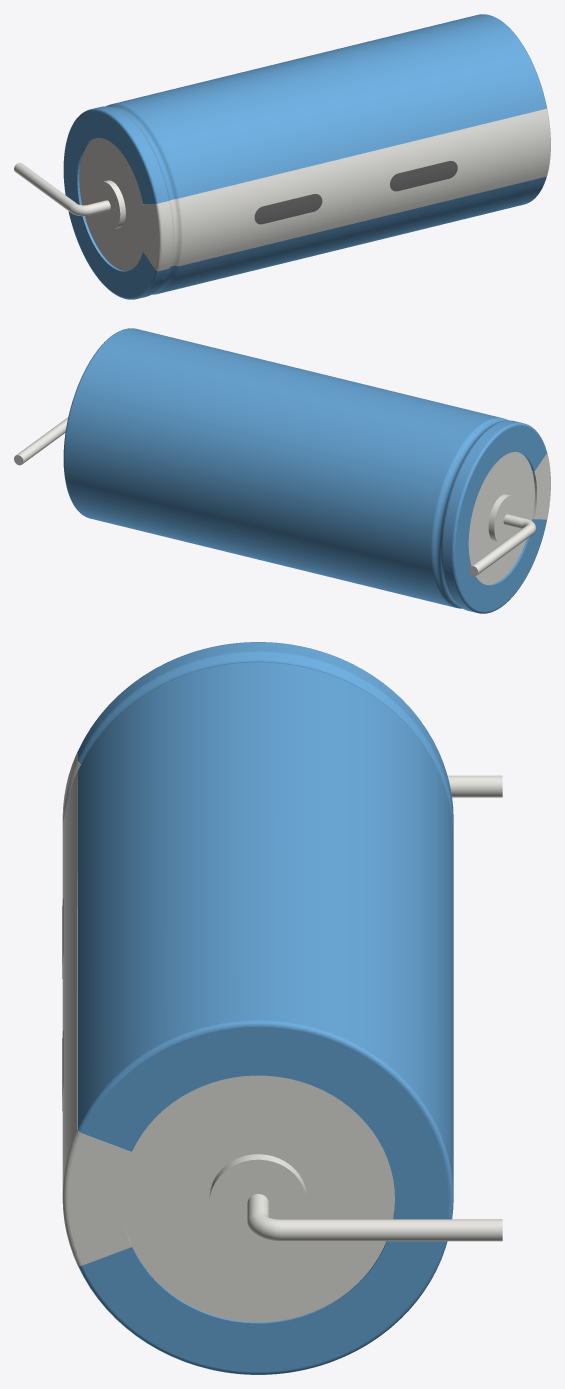
The model's file is CP_Axial_L37.0mm_D16.0mm_P43.00mm_Horizontal.glb.
3 views of the same model, one above another, from view 1: azimuth 30°, elevation 25°; view 2: azimuth 150°, elevation 25°; view 3: azimuth 270°, elevation 25° (orthographic). The views are drawn at different scales.
Visible parts, largest first — view 1: Shape_IndexedFaceSet.009, Shape_IndexedFaceSet.049, Shape_IndexedFaceSet.006, Shape_IndexedFaceSet.064, Shape_IndexedFaceSet, Shape_IndexedFaceSet.028, Shape_IndexedFaceSet.018, Shape_IndexedFaceSet.005, Shape_IndexedFaceSet.003, Shape_IndexedFaceSet.041, Shape_IndexedFaceSet.051, Shape_IndexedFaceSet.062 (+4 smaller); view 2: Shape_IndexedFaceSet.009, Shape_IndexedFaceSet.006, Shape_IndexedFaceSet.064, Shape_IndexedFaceSet, Shape_IndexedFaceSet.005, Shape_IndexedFaceSet.003, Shape_IndexedFaceSet.041, Shape_IndexedFaceSet.051, Shape_IndexedFaceSet.062, Shape_IndexedFaceSet.007, Shape_IndexedFaceSet.055, Shape_IndexedFaceSet.002 (+1 smaller); view 3: Shape_IndexedFaceSet.009, Shape_IndexedFaceSet.059, Shape_IndexedFaceSet.012, Shape_IndexedFaceSet.046, Shape_IndexedFaceSet.049, Shape_IndexedFaceSet.057, Shape_IndexedFaceSet.011, Shape_IndexedFaceSet.055, Shape_IndexedFaceSet, Shape_IndexedFaceSet.005, Shape_IndexedFaceSet.002, Shape_IndexedFaceSet.051.
Part boxes in pixels (x1,y1,x2,y2): Shape_IndexedFaceSet.009: (113, 14, 545, 293); Shape_IndexedFaceSet.049: (179, 109, 549, 265); Shape_IndexedFaceSet.006: (64, 111, 155, 297); Shape_IndexedFaceSet.064: (79, 138, 145, 270); Shape_IndexedFaceSet: (94, 106, 167, 298); Shape_IndexedFaceSet.028: (390, 161, 457, 191); Shape_IndexedFaceSet.018: (254, 194, 322, 224); Shape_IndexedFaceSet.005: (107, 105, 176, 293); Shape_IndexedFaceSet.003: (63, 108, 158, 299); Shape_IndexedFaceSet.041: (143, 204, 158, 269); Shape_IndexedFaceSet.051: (14, 162, 76, 211); Shape_IndexedFaceSet.062: (95, 181, 120, 229); Shape_IndexedFaceSet.009: (64, 328, 500, 607); Shape_IndexedFaceSet.006: (455, 425, 546, 611); Shape_IndexedFaceSet.064: (468, 452, 534, 584); Shape_IndexedFaceSet: (442, 420, 521, 612); Shape_IndexedFaceSet.005: (434, 419, 506, 607); Shape_IndexedFaceSet.003: (452, 422, 547, 613); Shape_IndexedFaceSet.041: (534, 454, 550, 519); Shape_IndexedFaceSet.051: (471, 525, 533, 574); Shape_IndexedFaceSet.062: (494, 495, 518, 543); Shape_IndexedFaceSet.007: (431, 417, 507, 608); Shape_IndexedFaceSet.055: (16, 417, 68, 464); Shape_IndexedFaceSet.002: (441, 420, 509, 607); Shape_IndexedFaceSet.009: (77, 662, 453, 1192); Shape_IndexedFaceSet.059: (121, 1075, 394, 1322); Shape_IndexedFaceSet.012: (82, 1027, 448, 1371); Shape_IndexedFaceSet.046: (67, 1133, 131, 1265); Shape_IndexedFaceSet.049: (62, 772, 77, 1190); Shape_IndexedFaceSet.057: (209, 1159, 306, 1248); Shape_IndexedFaceSet.011: (77, 1020, 453, 1374); Shape_IndexedFaceSet.055: (280, 1219, 502, 1241); Shape_IndexedFaceSet: (77, 642, 453, 823); Shape_IndexedFaceSet.005: (79, 655, 448, 797); Shape_IndexedFaceSet.002: (78, 651, 453, 833); Shape_IndexedFaceSet.051: (447, 775, 502, 797).
Size of the model in its own units: 17.28 by 6.3 by 7.09.
